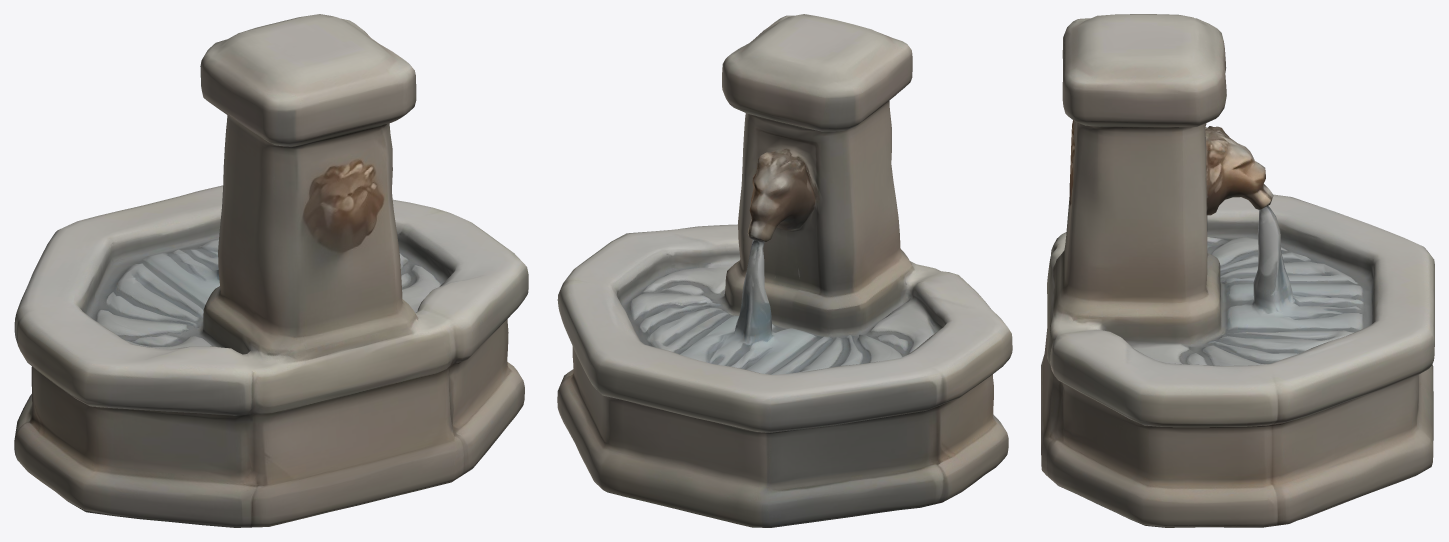
File: fountain-simple.glb
The picture shows the model from 3 angles, left to right: view 1: azimuth 30°, elevation 25°; view 2: azimuth 150°, elevation 25°; view 3: azimuth 270°, elevation 25°; orthographic projection. The views are drawn at different scales.
Parts seen in each view (by area): view 1: fountain-simple; view 2: fountain-simple; view 3: fountain-simple.
Boxes of the visible parts, x1,y1,x2,y2 form: fountain-simple: (14,14,528,527); fountain-simple: (557,14,1012,527); fountain-simple: (1041,14,1434,527).
Bounding box in the file's own units: 0.9983 × 0.9045 × 0.8122.
Materials: 1 (1 with a texture image).
